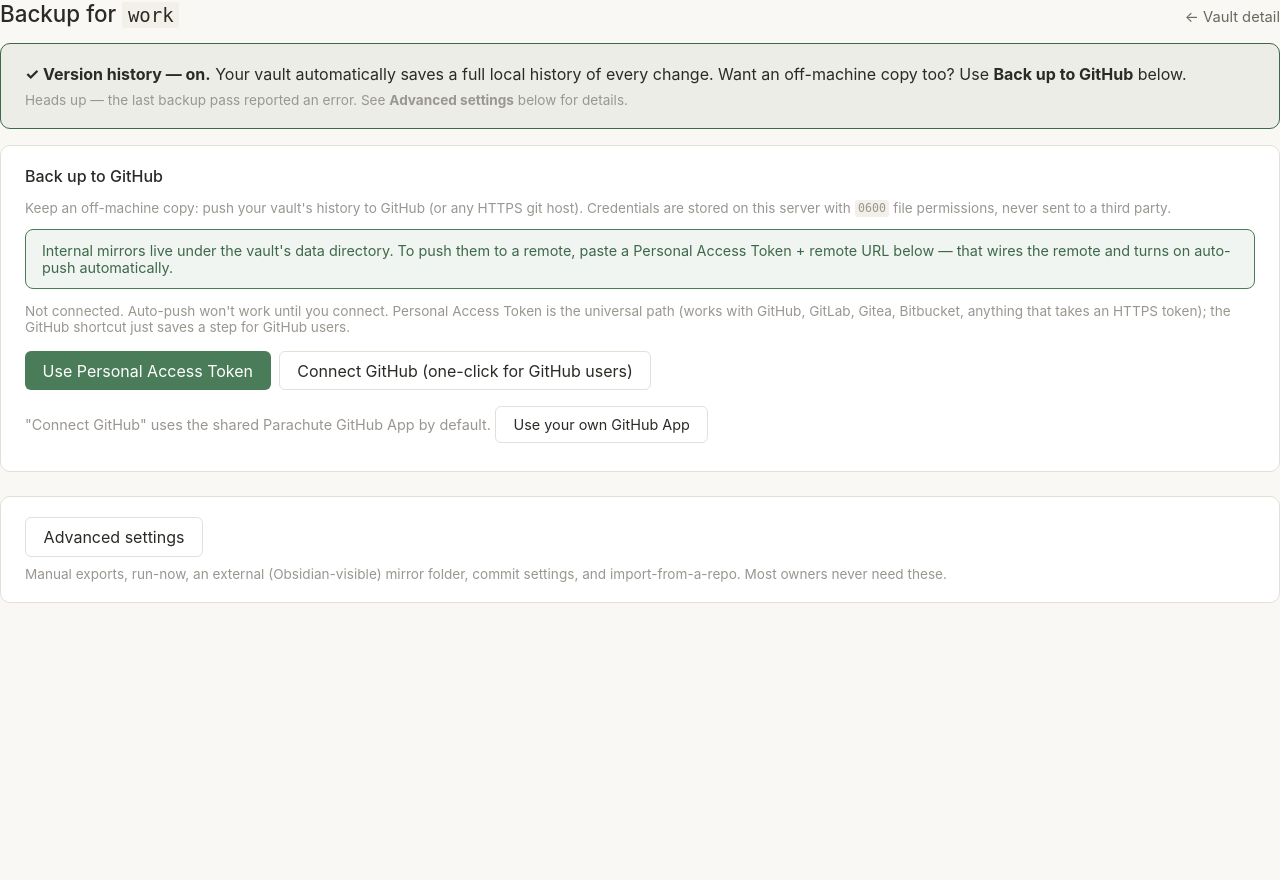
VaultMirror — admin scope › surfaces last_error in red when present
The image size is (1280, 880).
Click the button "Advanced settings": (114, 537) x1=25 y1=517 x2=203 y2=557
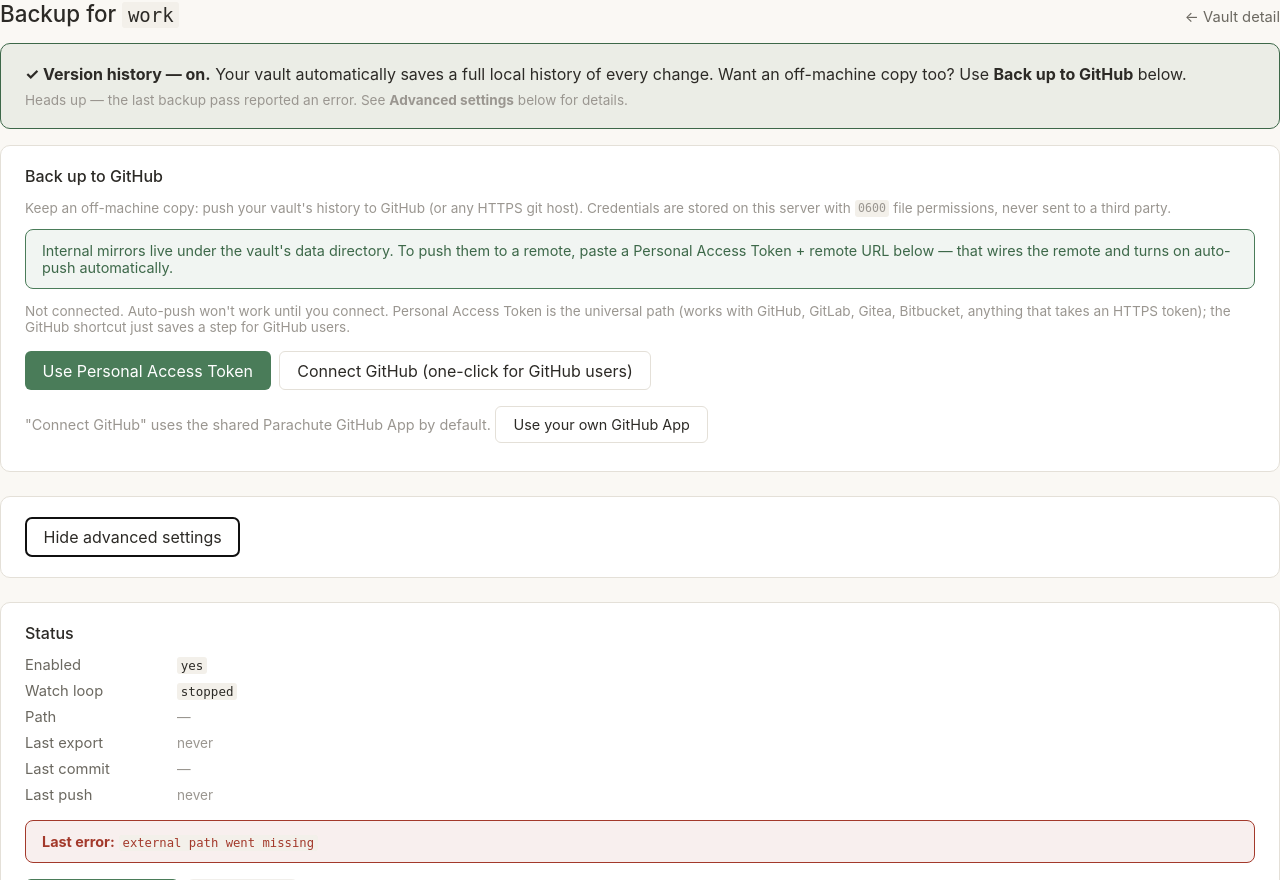
Check: the text "external path went missing" is shown, box x1=119 y1=835 x2=318 y2=851
